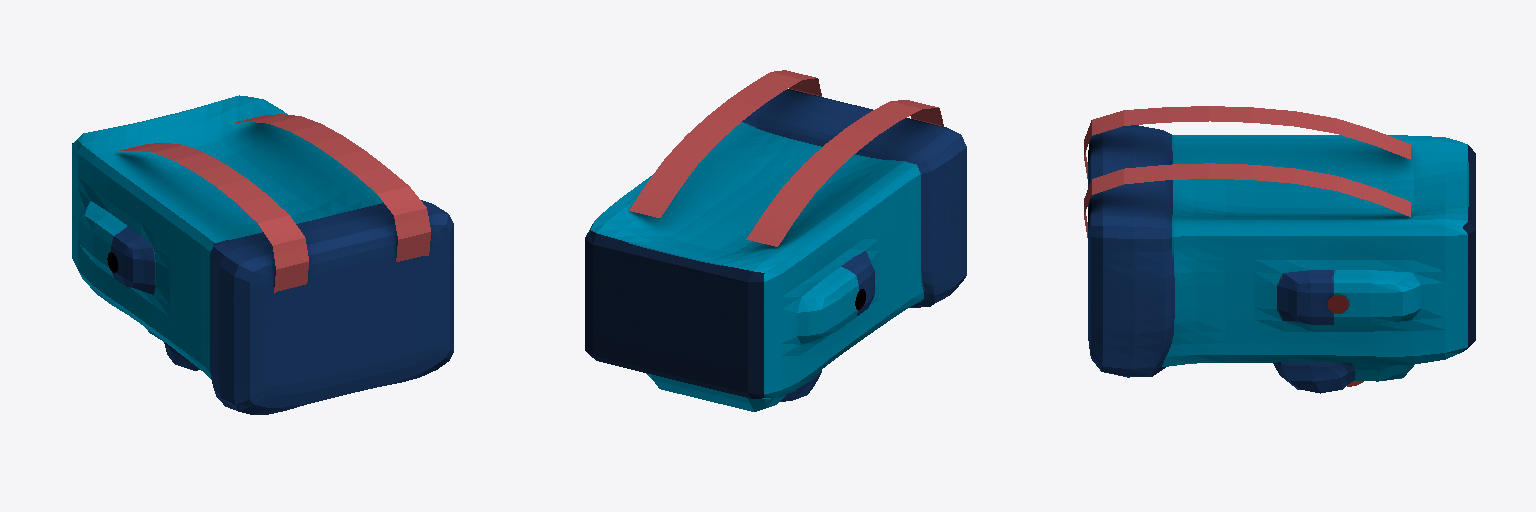
3 renders of one model, left to right at view 1: azimuth 30°, elevation 25°; view 2: azimuth 150°, elevation 25°; view 3: azimuth 270°, elevation 25°, orthographic.
Visible parts, largest first — view 1: Box001; view 2: Box001; view 3: Box001.
Boxes of the visible parts, x1=… form: Box001: x1=72, y1=95, x2=453, y2=414; Box001: x1=585, y1=70, x2=966, y2=411; Box001: x1=1084, y1=106, x2=1475, y2=393.
Size of the model in its own units: 30.22 by 27.74 by 43.53.
Materials: 1 (1 with a texture image).